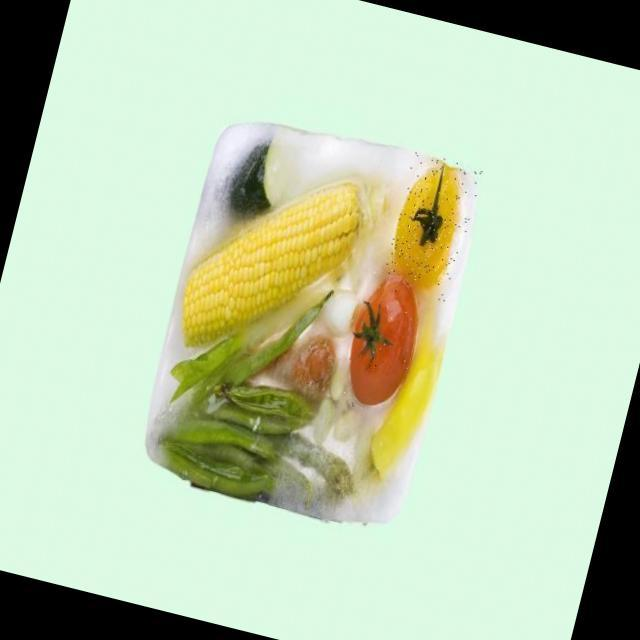Tomate: (380, 147, 483, 304), (333, 265, 437, 420)
